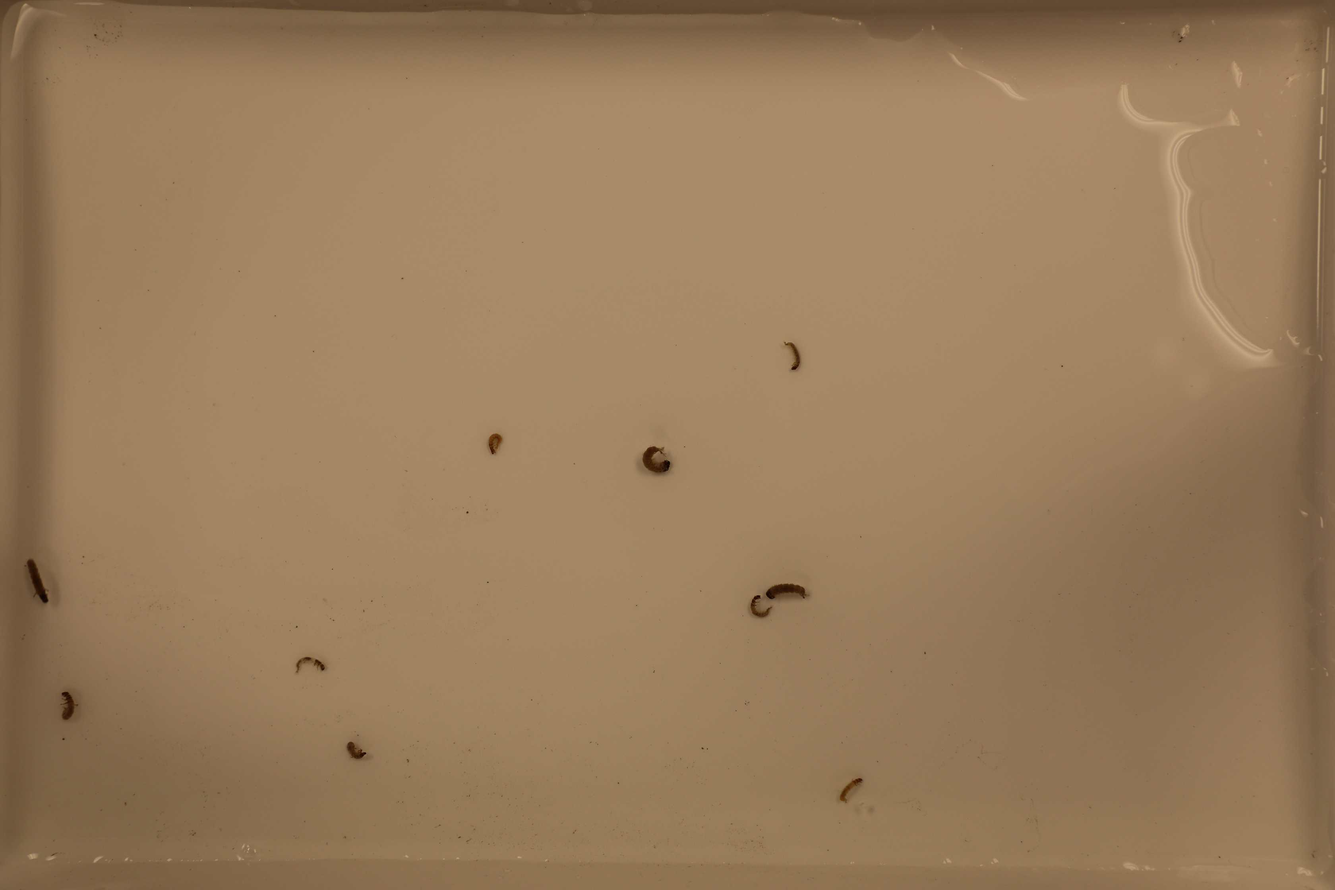Cadisfly: (21, 556, 53, 608), (639, 444, 675, 476), (778, 338, 807, 375), (837, 773, 869, 806), (291, 652, 330, 677), (53, 687, 78, 723), (342, 738, 368, 761), (484, 433, 507, 459), (768, 585, 809, 598), (750, 596, 773, 619)
